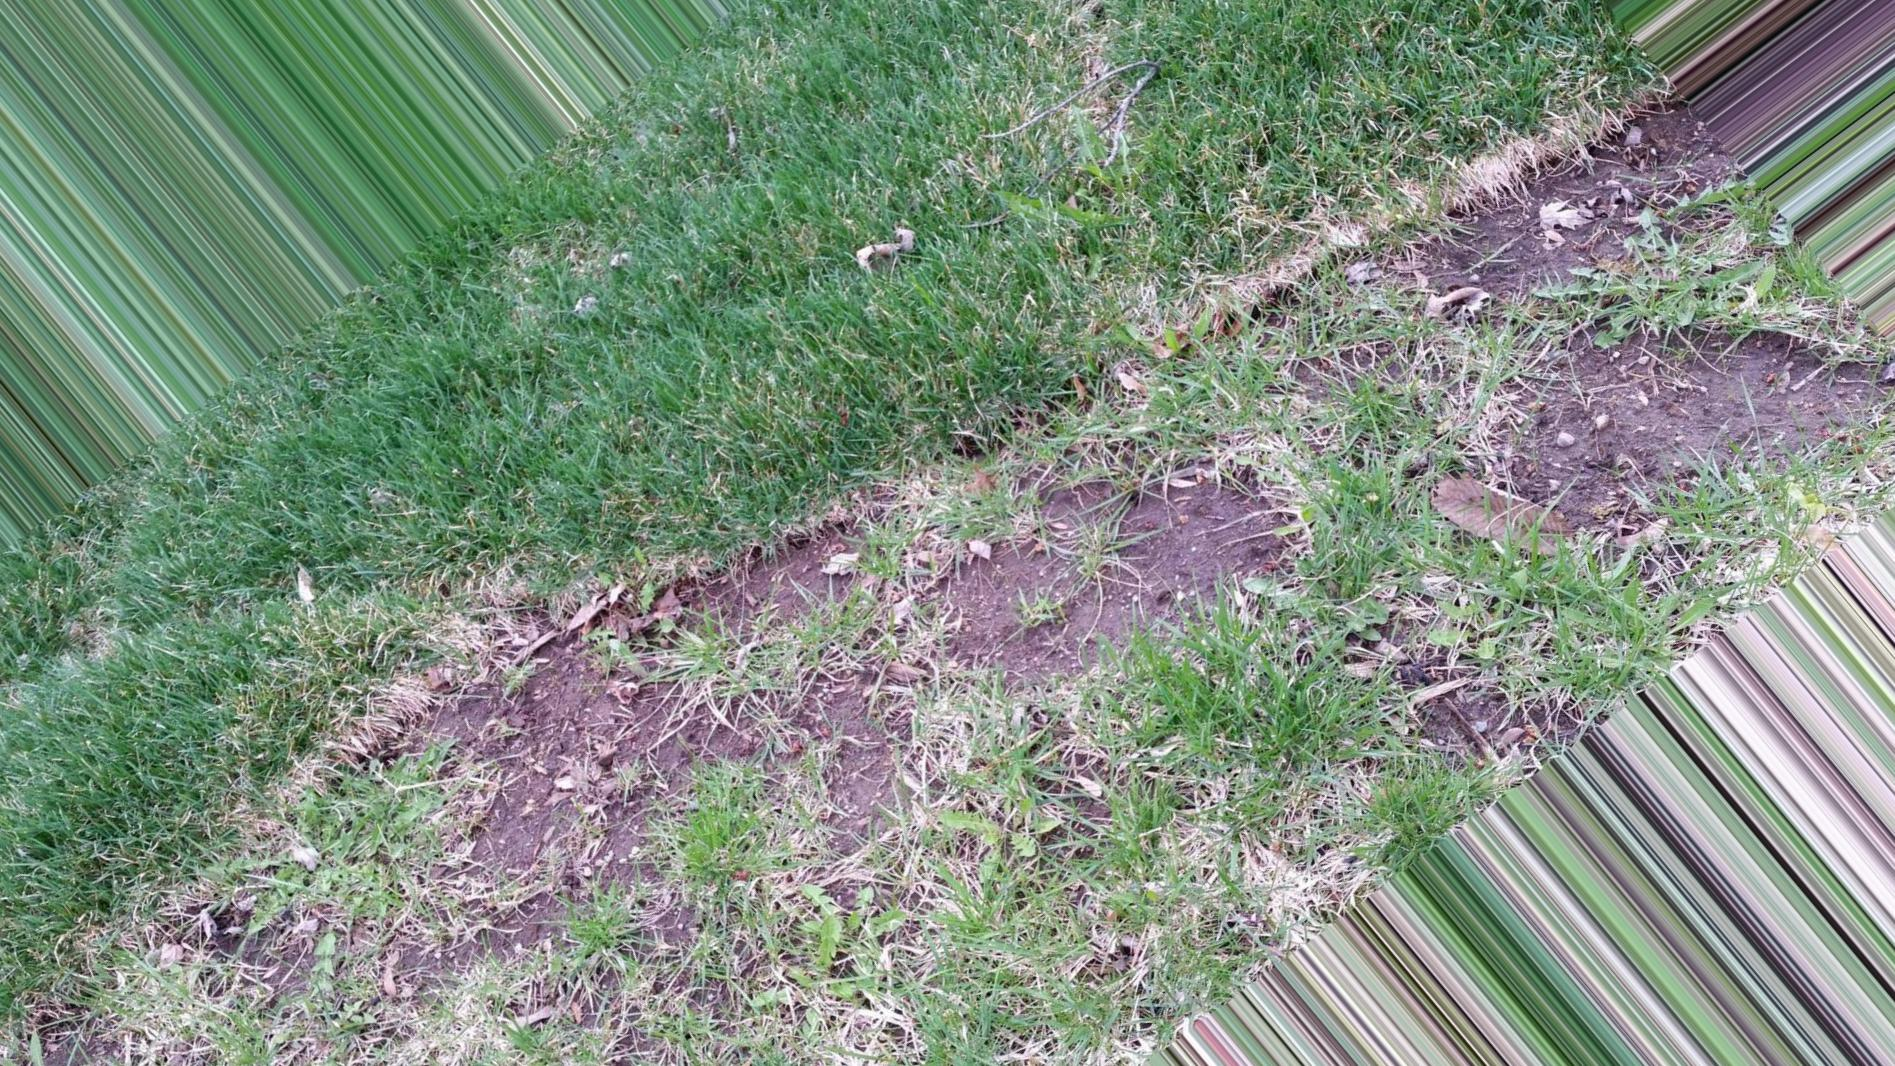patch: (419, 716, 968, 1028), (819, 564, 1249, 866), (1180, 436, 1521, 717), (1492, 230, 1722, 508)
